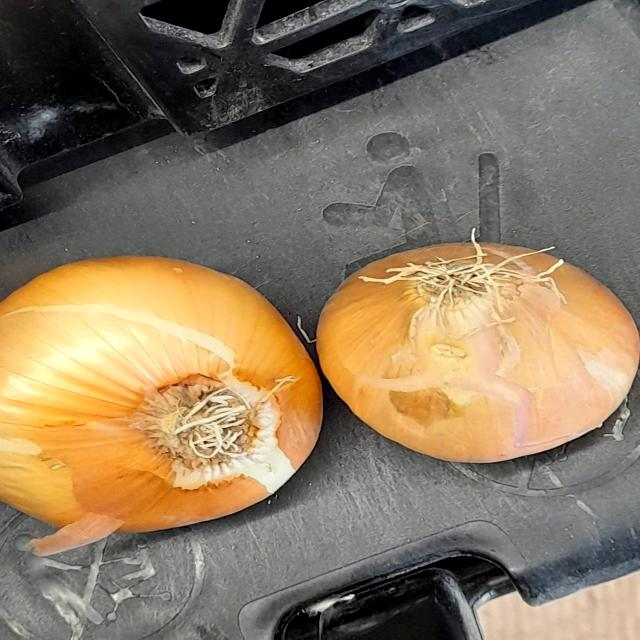onion: (0, 245, 324, 540), (297, 212, 640, 473)
